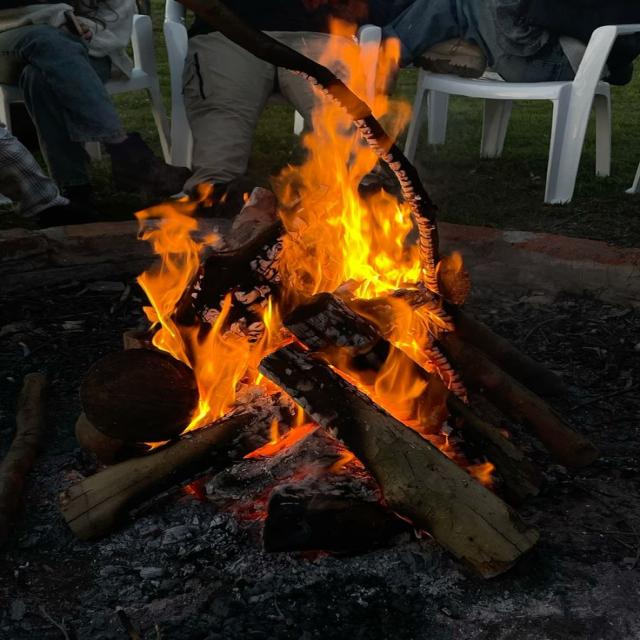fire: (281, 14, 428, 297), (192, 295, 275, 429), (136, 202, 204, 364), (368, 298, 447, 429)
